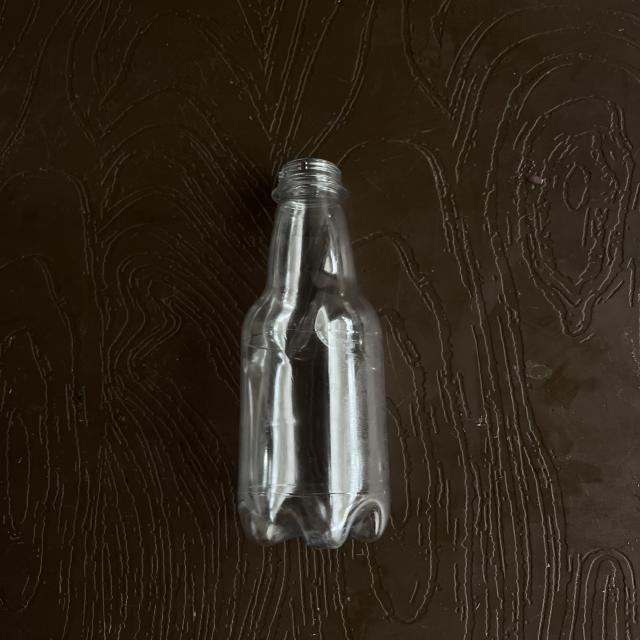PET_ClearBottle: (226, 158, 402, 640)
